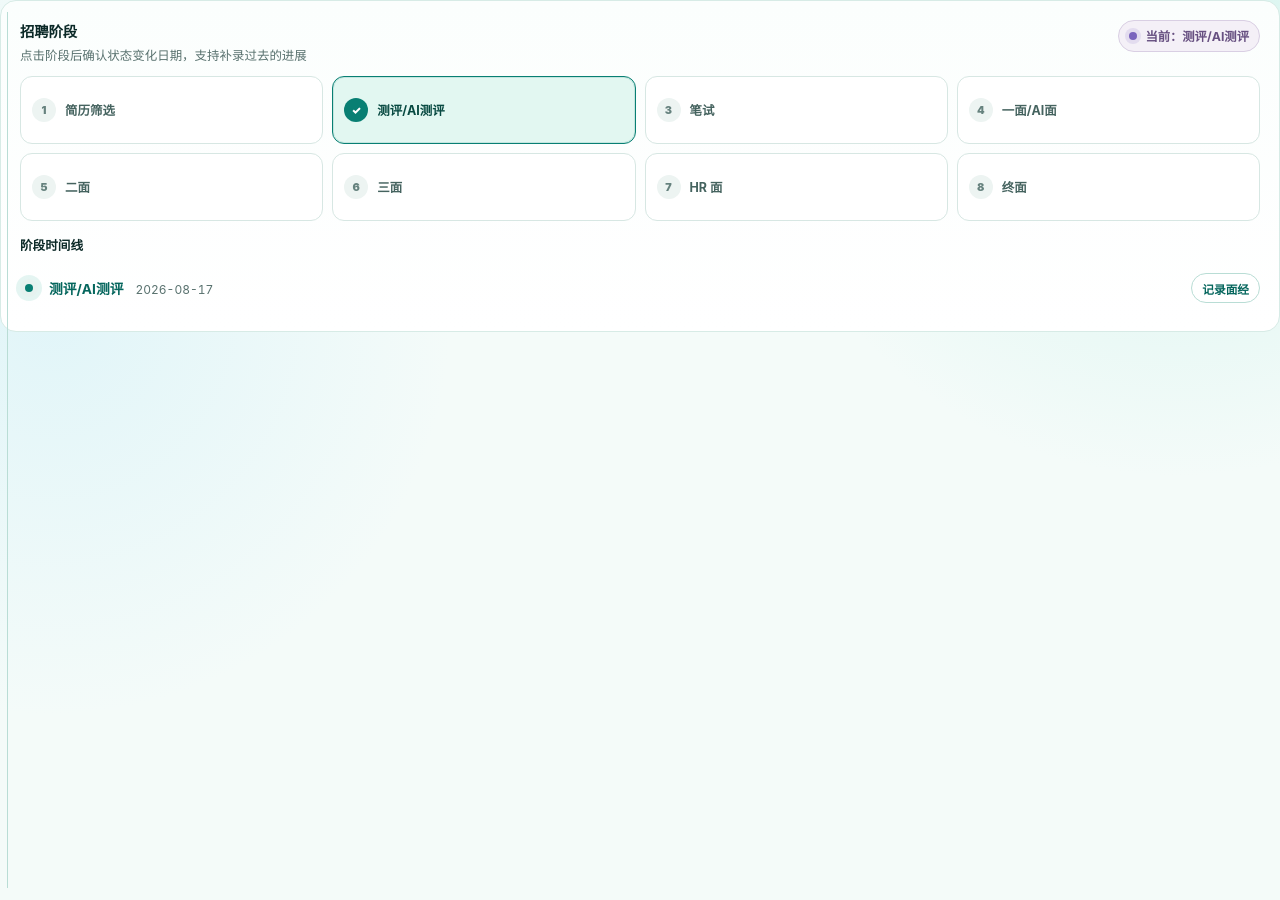
Scenario: 面经创建闭环 › 测评阶段也提供记录面经入口
Click the button "记录面经". click: (1226, 288)
box: [1191,273,1260,303]
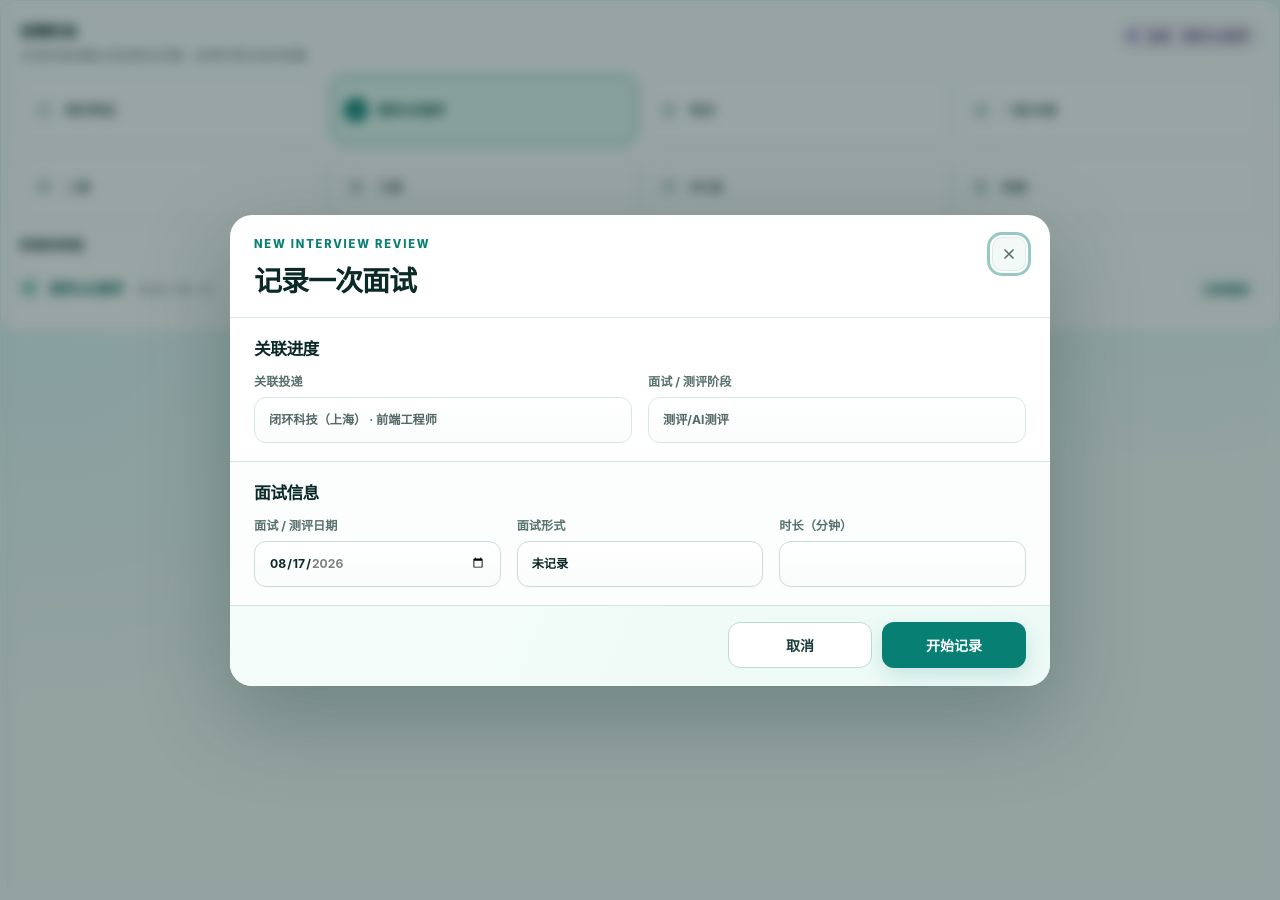
Expected: the dialog "记录一次面试" is shown, [230,214,1050,686]
Expected: the dropdown labelled "面试 / 测评阶段" shows "测评/AI测评", [648,396,1026,442]
